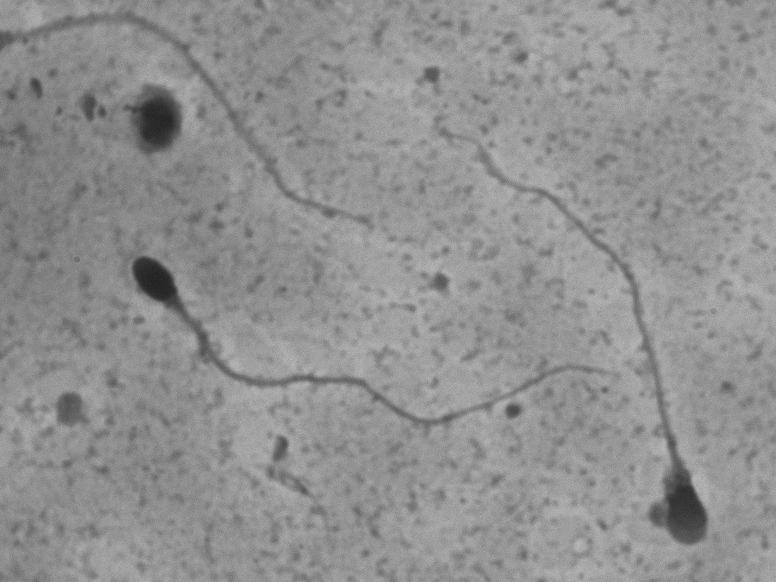Abnormal: (399, 98, 727, 556)
Normal: (107, 215, 617, 450)
